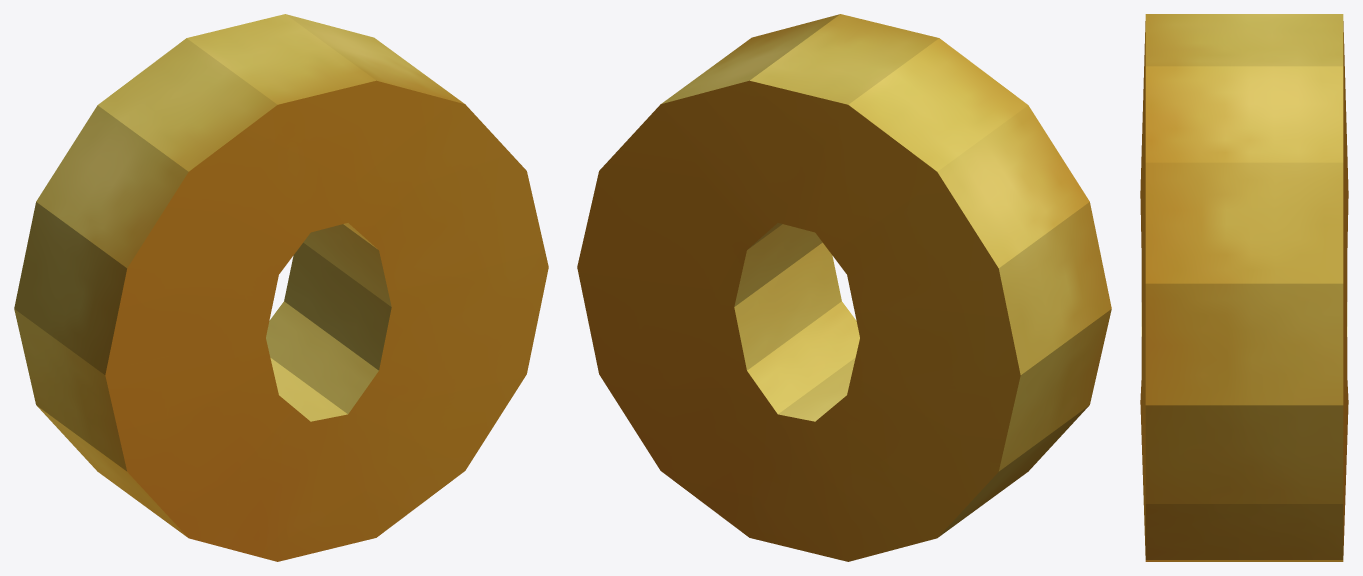
File: Model_Q_FontO.FBX
3 views of the same model, side by side, from view 1: azimuth 30°, elevation 25°; view 2: azimuth 150°, elevation 25°; view 3: azimuth 270°, elevation 25° (orthographic). The views are drawn at different scales.
Parts seen in each view (by area): view 1: Model_Q_FontO01; view 2: Model_Q_FontO01; view 3: Model_Q_FontO01.
Part boxes in pixels (x1,y1,x2,y2): Model_Q_FontO01: [14, 14, 548, 561]; Model_Q_FontO01: [577, 14, 1111, 561]; Model_Q_FontO01: [1140, 14, 1348, 561].
Size of the model in its own units: 3.03 by 2.98 by 1.14.
